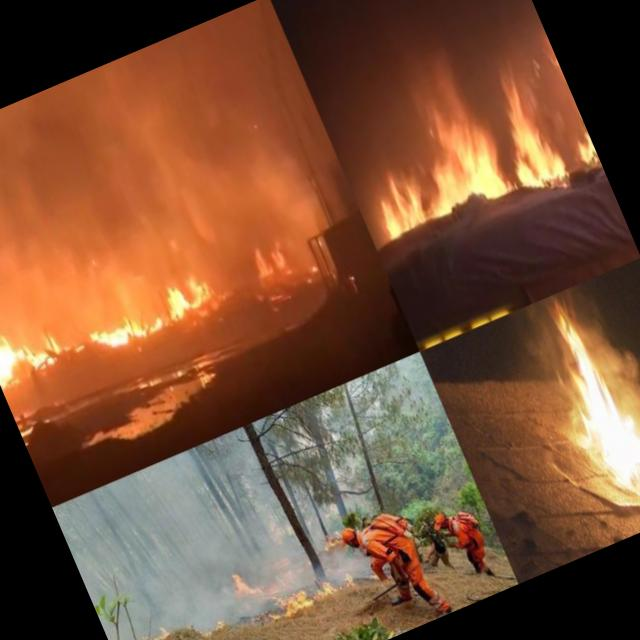fire: (330, 16, 602, 254), (0, 245, 222, 402), (524, 288, 640, 521), (276, 562, 360, 620), (237, 215, 299, 285), (222, 560, 268, 606), (127, 617, 176, 640), (191, 613, 227, 640)
smoke: (0, 4, 322, 334), (52, 420, 306, 623), (159, 572, 240, 640), (254, 535, 322, 594), (220, 590, 283, 636)
